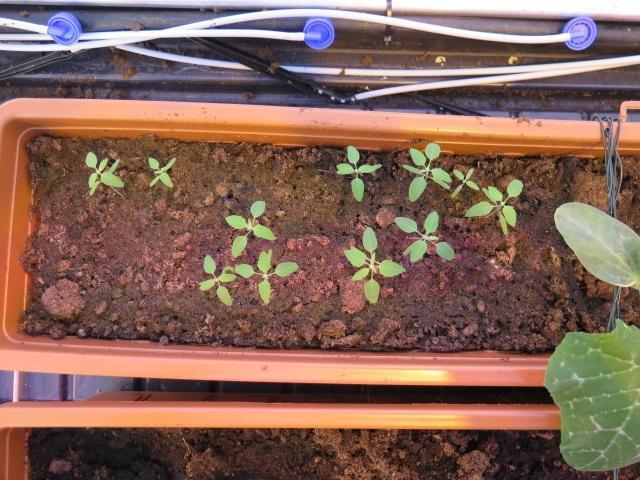weed: (331, 138, 385, 207), (81, 147, 126, 199), (143, 153, 177, 191)
